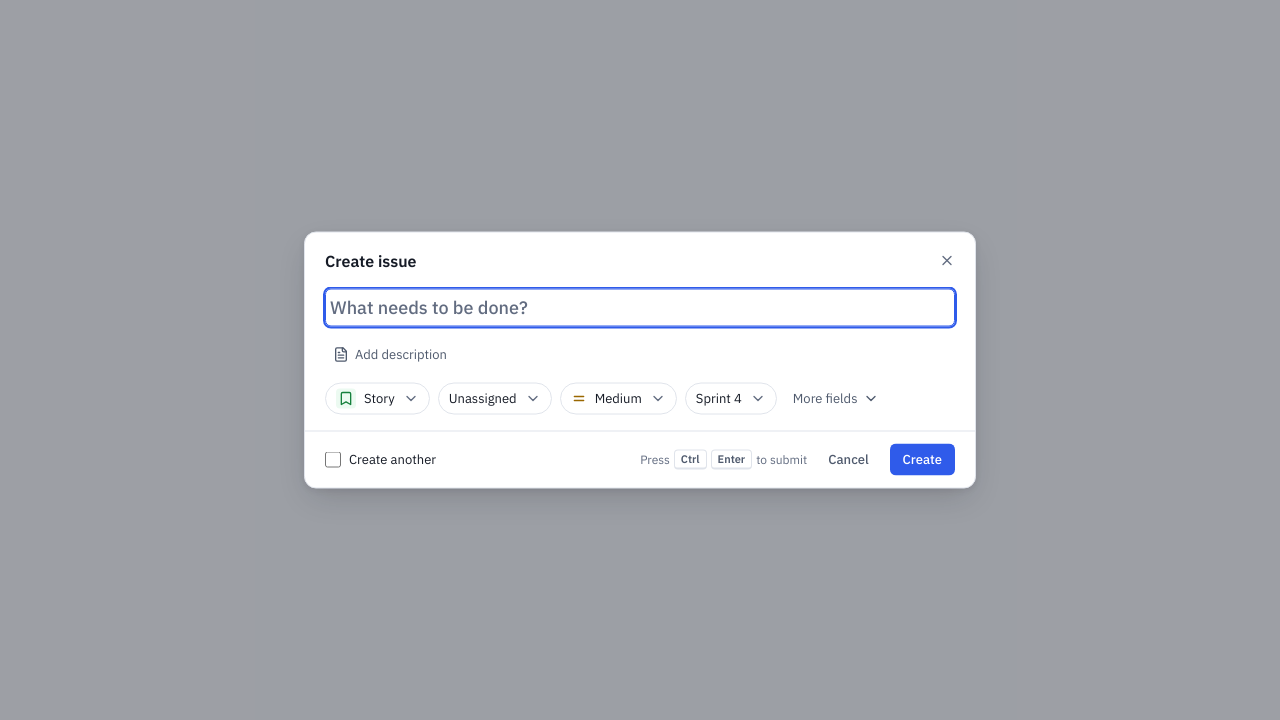
quick create › creates with ⌘↵ in the chosen sprint and closes
This screenshot has width=1280, height=720.
Expected: the dropdown labelled "Sprint" reads "Sprint 4", [685,382,777,414]
Type "Fix the login page" into the field named "Title".
click(640, 308); type("Fix the login page")  # box [325,288,955,326]
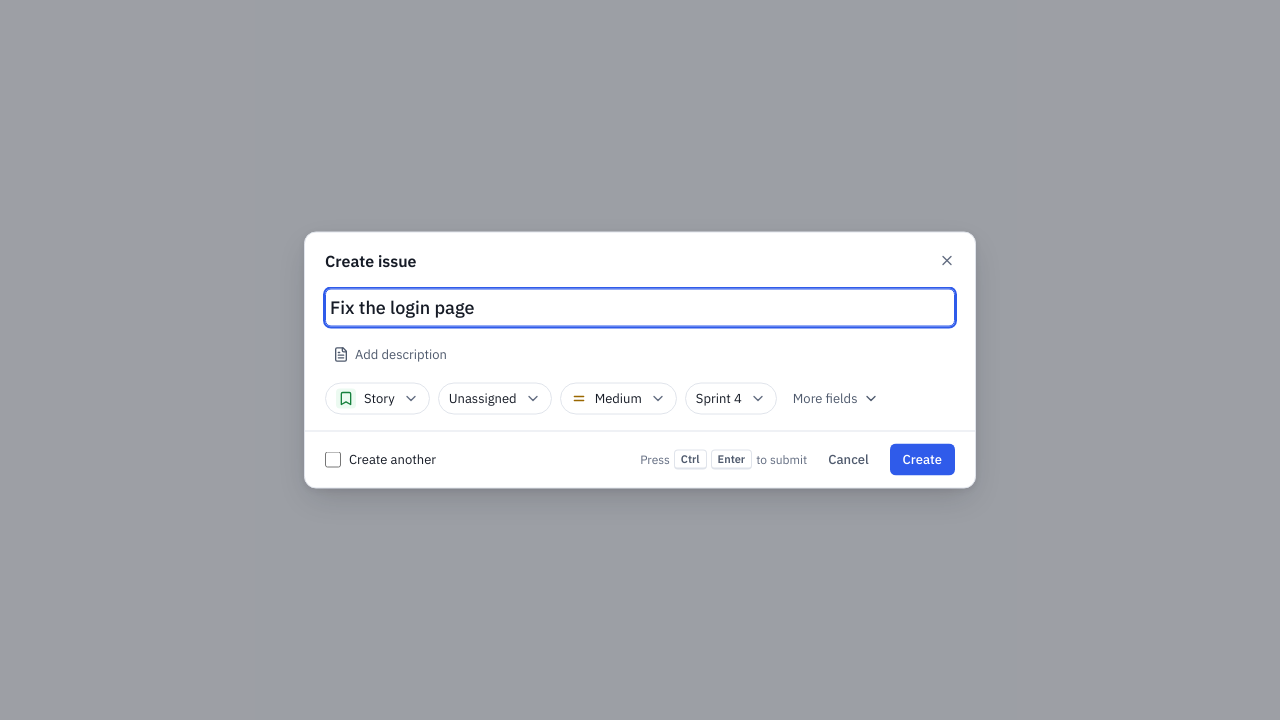
Type keys "{Meta>}{Enter}{/Meta}"
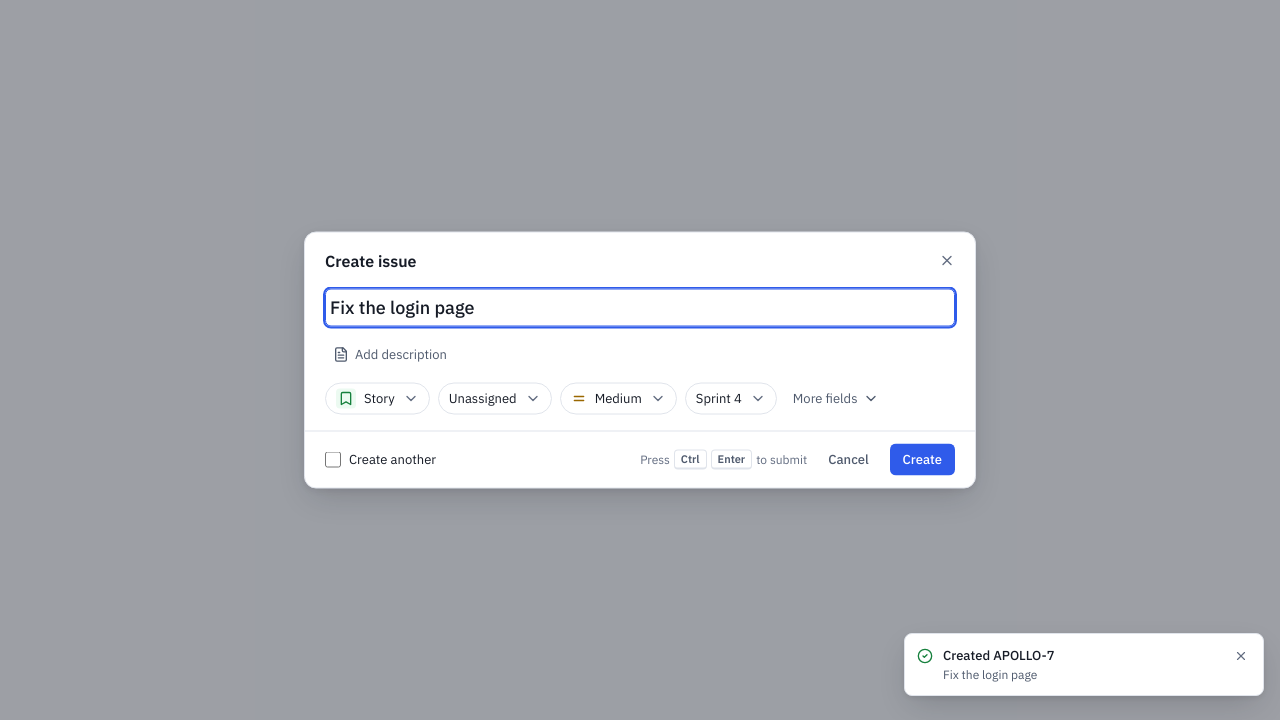
Expected: the text "Created APOLLO-7" is shown, [943,646,1054,664]
